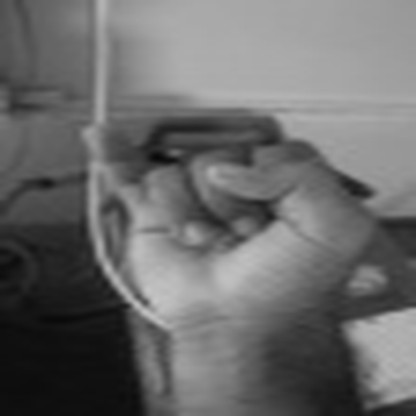i: (37, 89, 378, 310)
